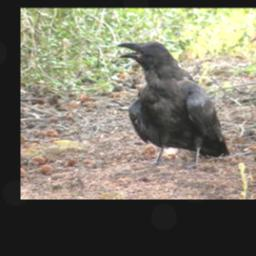Crow: (116, 40, 232, 171)
